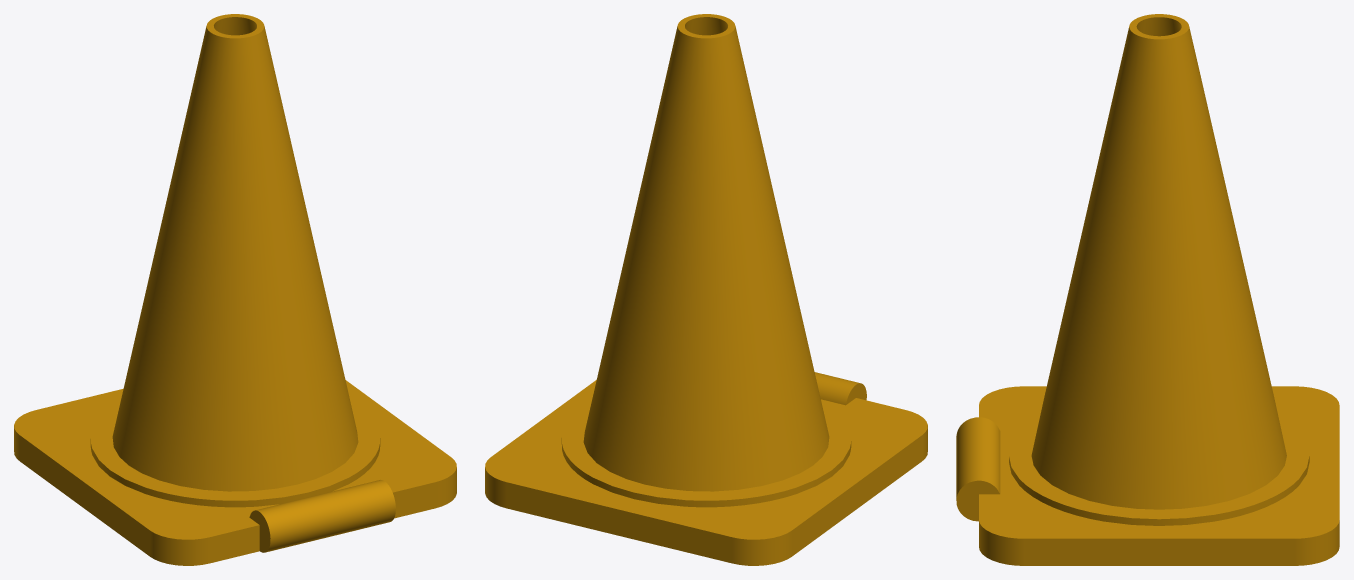
3 views of the same model, side by side, from view 1: azimuth 30°, elevation 25°; view 2: azimuth 150°, elevation 25°; view 3: azimuth 270°, elevation 25° (orthographic). The views are drawn at different scales.
Visible parts, largest first — view 1: Body1; view 2: Body1; view 3: Body1.
Boxes of the visible parts, box(x1,y1,x2,y2) form: Body1: box(14, 14, 456, 565); Body1: box(485, 14, 927, 565); Body1: box(956, 14, 1339, 565).
Size of the model in its own units: 24 by 34 by 25.5.
